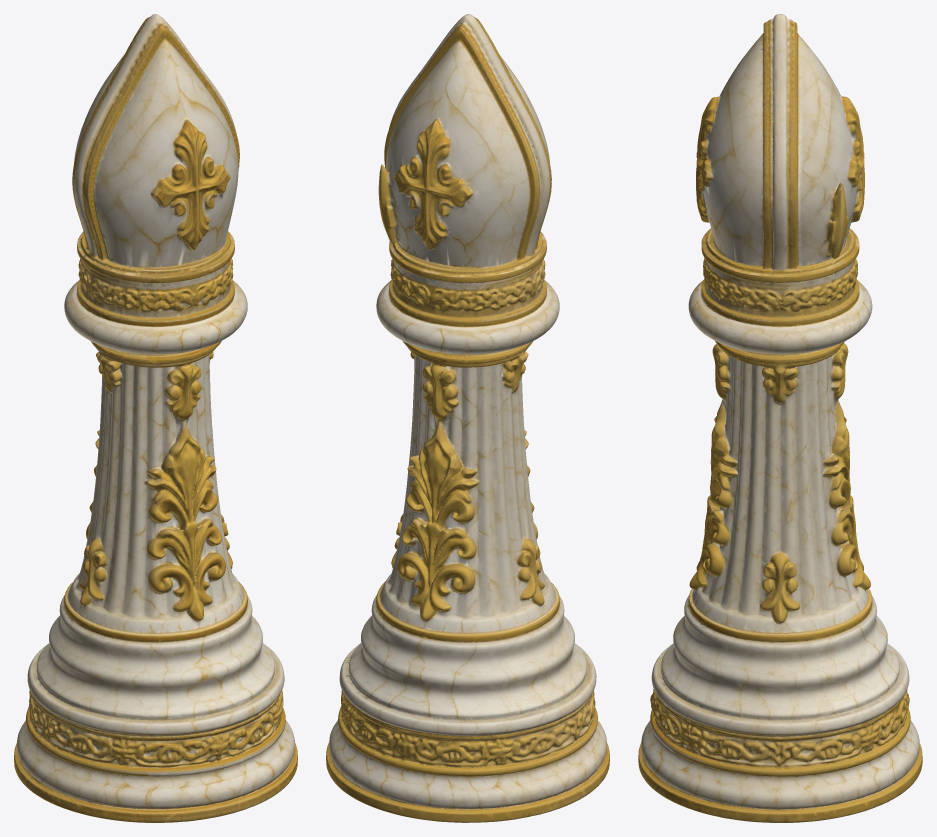
Rendered from baroque_bishop_white_opt.glb.
The picture shows the model from 3 angles, left to right: view 1: azimuth 30°, elevation 25°; view 2: azimuth 150°, elevation 25°; view 3: azimuth 270°, elevation 25°; orthographic projection.
Bounding box in the file's own units: 0.6526 × 1.9 × 0.6523.
1 material, 1 textured.
